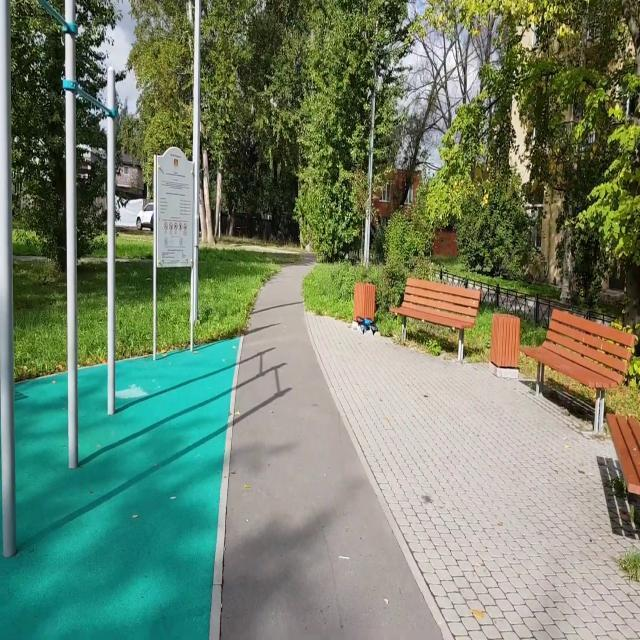Drons: (354, 314, 380, 336)
